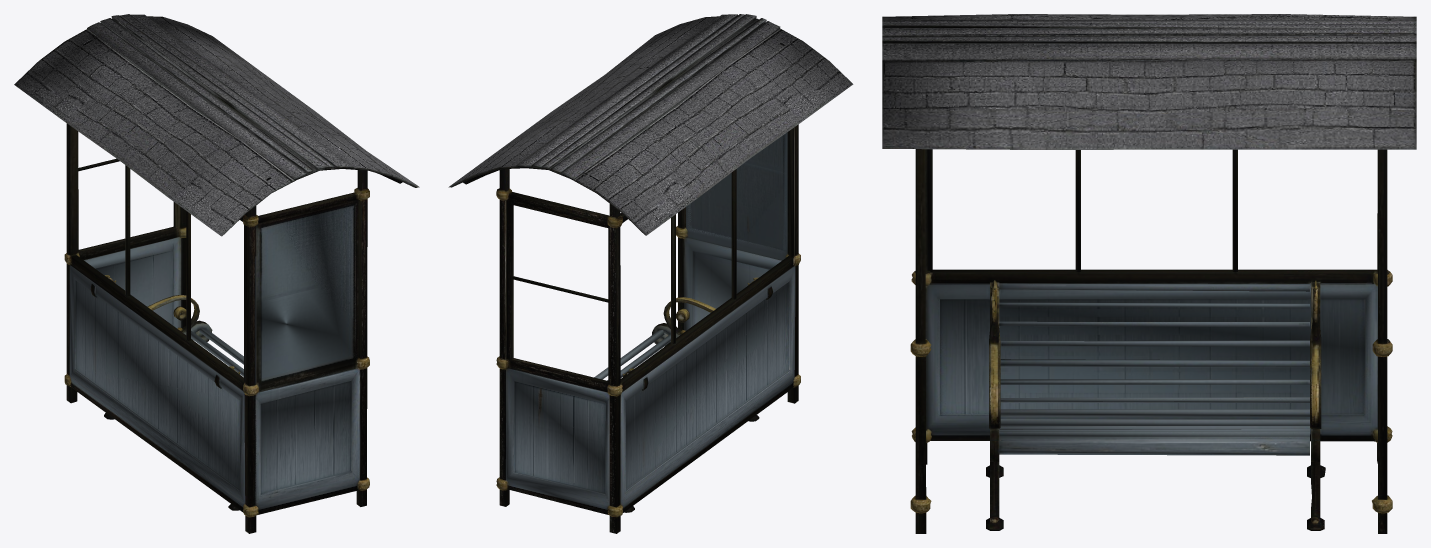
The model's file is tripo_convert_413d398f-4959-4bf7-ab04-4182add6fbe7.fbx.
3 views of the same model, side by side, from view 1: azimuth 30°, elevation 25°; view 2: azimuth 150°, elevation 25°; view 3: azimuth 270°, elevation 25° (orthographic). The views are drawn at different scales.
Visible parts, largest first — view 1: tripo_node_413d398f; view 2: tripo_node_413d398f; view 3: tripo_node_413d398f.
Part boxes in pixels (left/top/right/bottom): tripo_node_413d398f: left=14, top=14, right=419, bottom=533; tripo_node_413d398f: left=448, top=14, right=853, bottom=533; tripo_node_413d398f: left=882, top=14, right=1416, bottom=533.
Size of the model in its own units: 0.5527 by 0.9629 by 0.998.
Materials: 1 (1 with a texture image).
